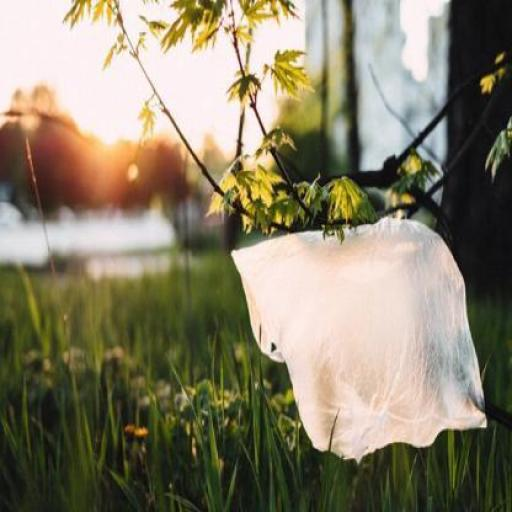plastic bag: (223, 208, 494, 463)
